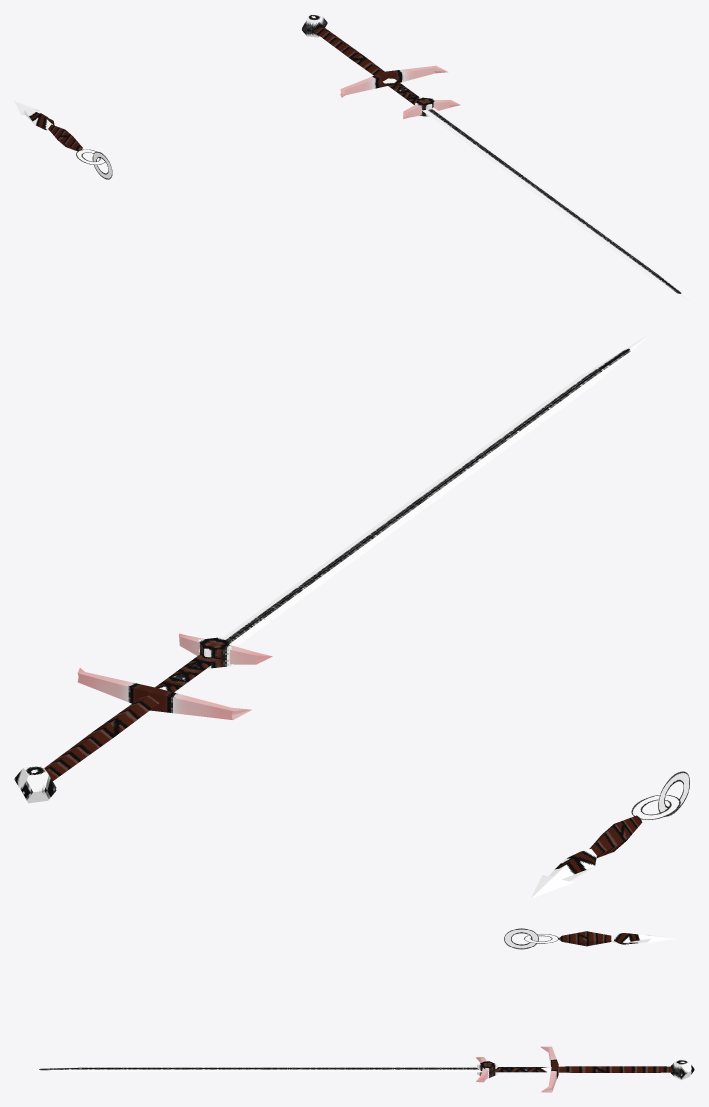
Rendered from SKUNK_PSX2_Wepons.glb.
The picture shows the model from 3 angles, top to bottom: view 1: azimuth 30°, elevation 25°; view 2: azimuth 150°, elevation 25°; view 3: azimuth 270°, elevation 25°; orthographic projection. The views are drawn at different scales.
Visible parts, largest first — view 1: sword, Dagger; view 2: sword, Dagger; view 3: sword, Dagger.
Part boxes in pixels (left/top/right/bottom): sword: left=301, top=14, right=693, bottom=303; Dagger: left=14, top=100, right=112, bottom=179; sword: left=14, top=333, right=651, bottom=803; Dagger: left=531, top=771, right=689, bottom=898; sword: left=18, top=1046, right=694, bottom=1092; Dagger: left=504, top=928, right=676, bottom=949.
Size of the model in its own units: 3.29 by 0.2223 by 6.
1 material, 1 textured.
